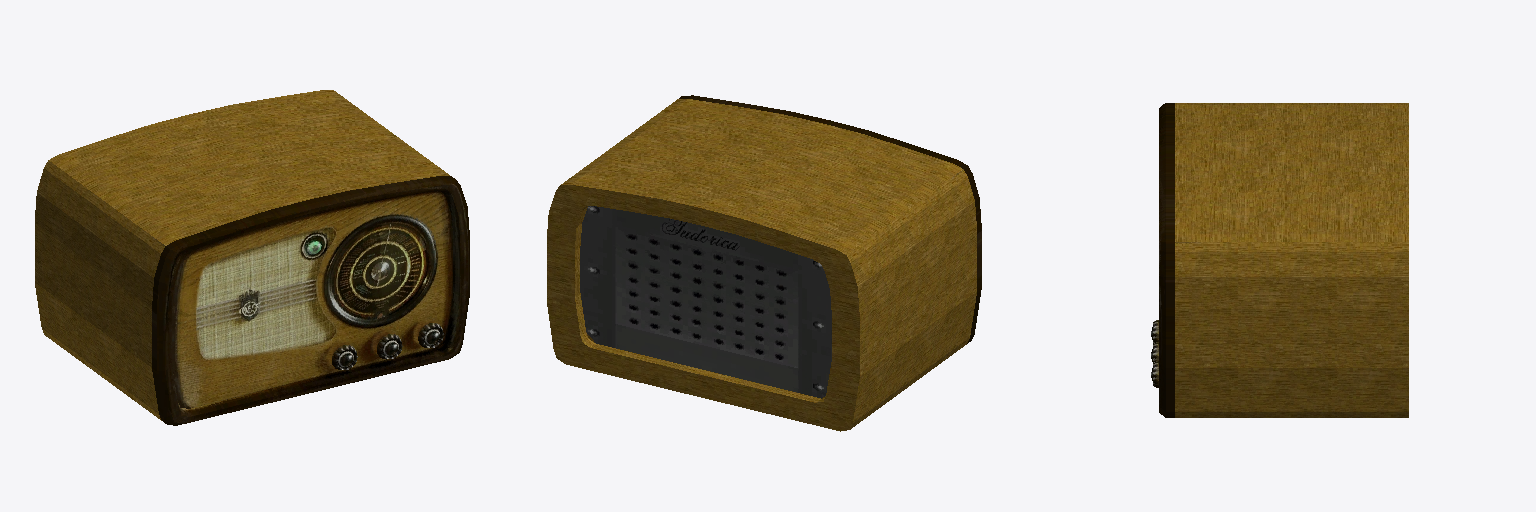
3 views of the same model, side by side, from view 1: azimuth 30°, elevation 25°; view 2: azimuth 150°, elevation 25°; view 3: azimuth 270°, elevation 25° (orthographic).
Bounding box in the file's own units: 2.18 × 1.26 × 1.56.
1 materials, 1 textured.